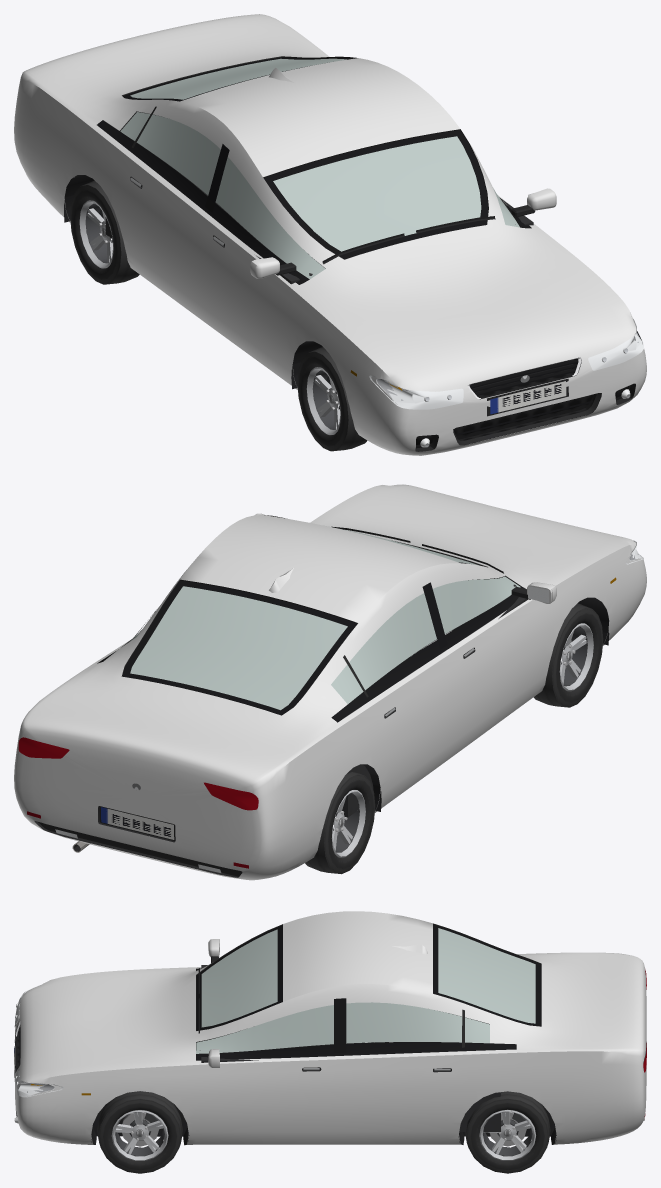
Rendered from TrafficSedanA_LOD0_unity_test.fbx.
The picture shows the model from 3 angles, top to bottom: view 1: azimuth 30°, elevation 25°; view 2: azimuth 150°, elevation 25°; view 3: azimuth 270°, elevation 25°; orthographic projection. The views are drawn at different scales.
Visible parts, largest first — view 1: Body_LOD0, Glass_LOD0, Trim_LOD0, Wheel_FR_LOD0, Wheel_RR_LOD0, Lights_LOD0; view 2: Body_LOD0, Glass_LOD0, Trim_LOD0, Wheel_FR_LOD0, Wheel_RR_LOD0, Lights_LOD0, Interior_LOD0; view 3: Body_LOD0, Glass_LOD0, Trim_LOD0, Wheel_FL_LOD0, Wheel_RL_LOD0, Lights_LOD0, Interior_LOD0.
Part boxes in pixels (box(x1,y1,x2,y2)): Body_LOD0: box(14, 14, 646, 455); Glass_LOD0: box(120, 57, 519, 279); Trim_LOD0: box(64, 56, 642, 451); Wheel_FR_LOD0: box(297, 347, 367, 451); Wheel_RR_LOD0: box(70, 180, 139, 284); Lights_LOD0: box(350, 319, 643, 409); Body_LOD0: box(14, 484, 646, 880); Glass_LOD0: box(122, 527, 520, 715); Trim_LOD0: box(27, 515, 609, 877); Wheel_FR_LOD0: box(533, 603, 603, 707); Wheel_RR_LOD0: box(305, 772, 375, 874); Lights_LOD0: box(18, 540, 643, 872); Interior_LOD0: box(342, 584, 552, 817); Body_LOD0: box(14, 911, 646, 1144); Glass_LOD0: box(196, 924, 541, 1053); Trim_LOD0: box(14, 923, 646, 1145); Wheel_FL_LOD0: box(97, 1091, 182, 1173); Wheel_RL_LOD0: box(465, 1091, 550, 1173); Lights_LOD0: box(14, 970, 646, 1097); Interior_LOD0: box(200, 965, 500, 1131).
Size of what is drawn, in the model's own units: 2.06 by 1.47 by 4.65.
